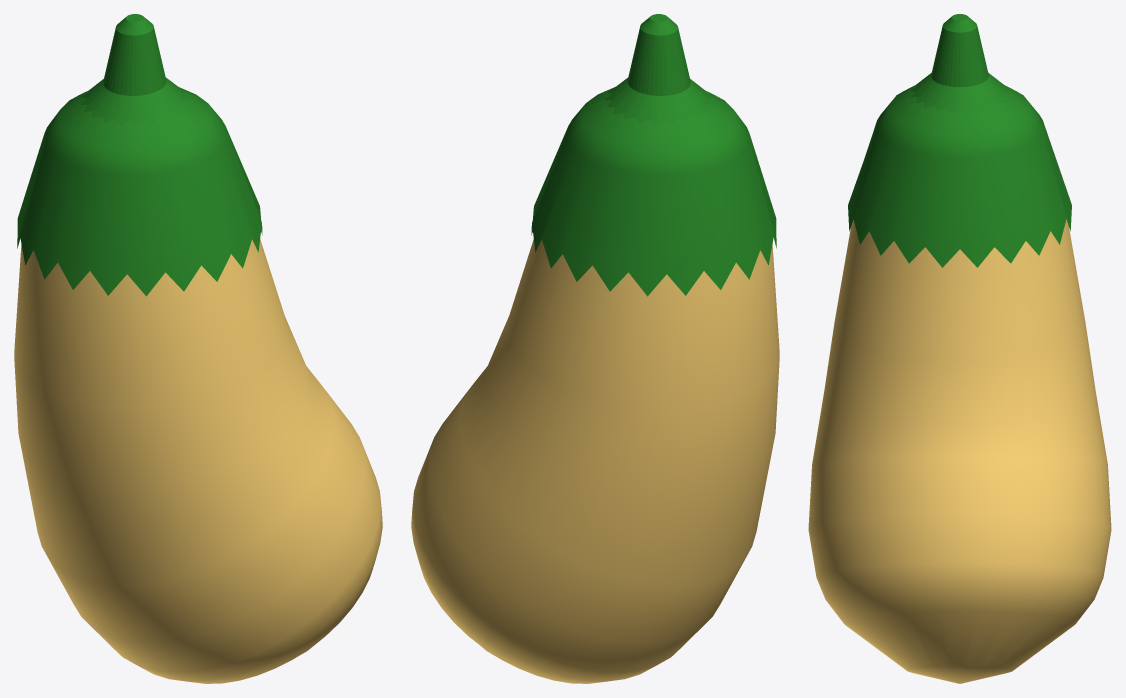
Rendered from goldenEggplant.fbx.
The picture shows the model from 3 angles, left to right: view 1: azimuth 30°, elevation 25°; view 2: azimuth 150°, elevation 25°; view 3: azimuth 270°, elevation 25°; orthographic projection. The views are drawn at different scales.
Visible parts, largest first — view 1: pSphere10; view 2: pSphere10; view 3: pSphere10.
Part boxes in pixels (x1,y1,x2,y2): pSphere10: (14, 14, 382, 683); pSphere10: (411, 14, 779, 683); pSphere10: (808, 14, 1111, 683).
Size of the model in its own units: 3.2 by 6.24 by 2.81.
Materials: 2 (2 with a texture image).
